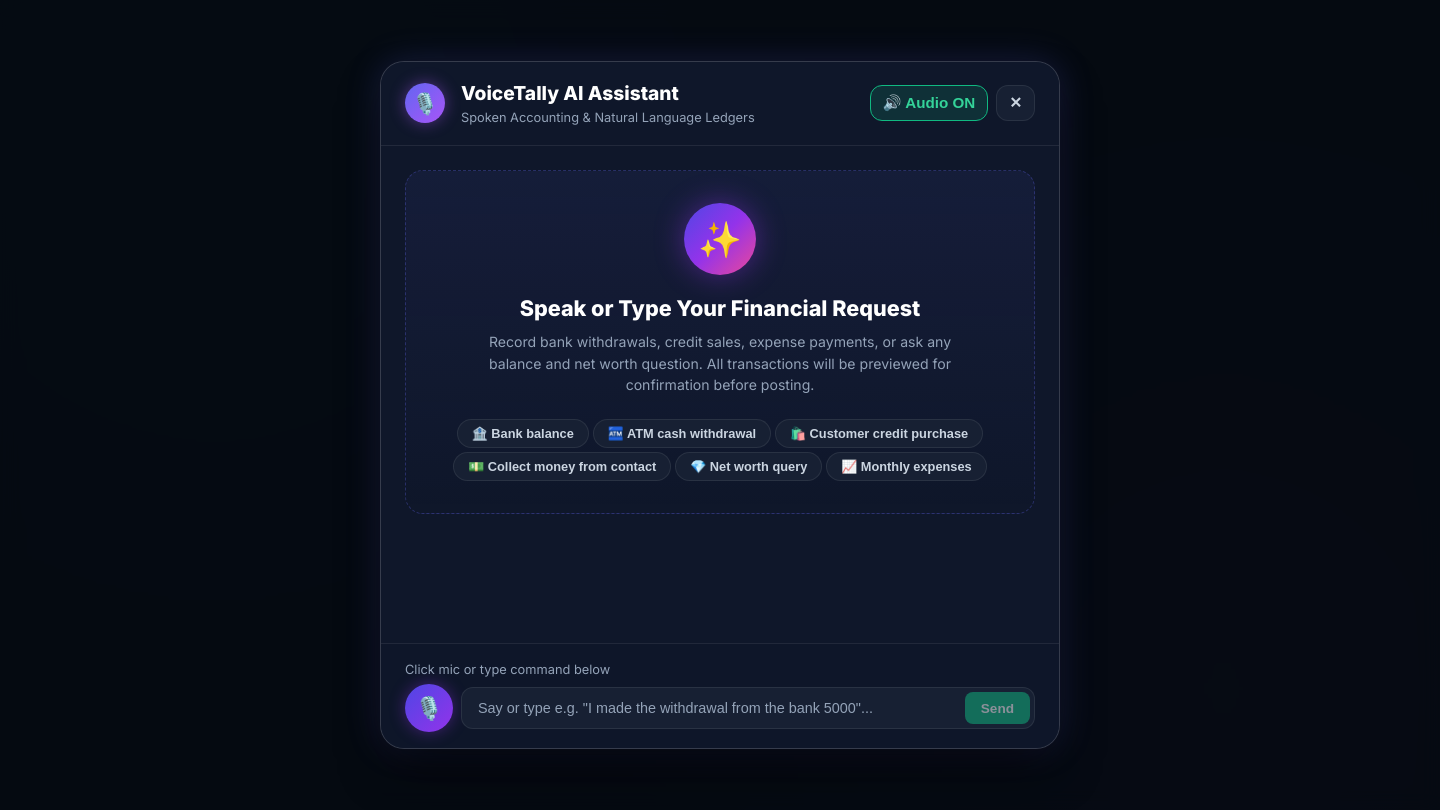
Test: UI: VoiceAgentModal & Studio Components › renders preview card with reconfirmation buttons and confirms on click
The image size is (1440, 810).
Replace the text in the field with placeholder "Say or type" with "i made the withdrawal from the bank 5000" at (713,708), box 466,692 -> 961,724
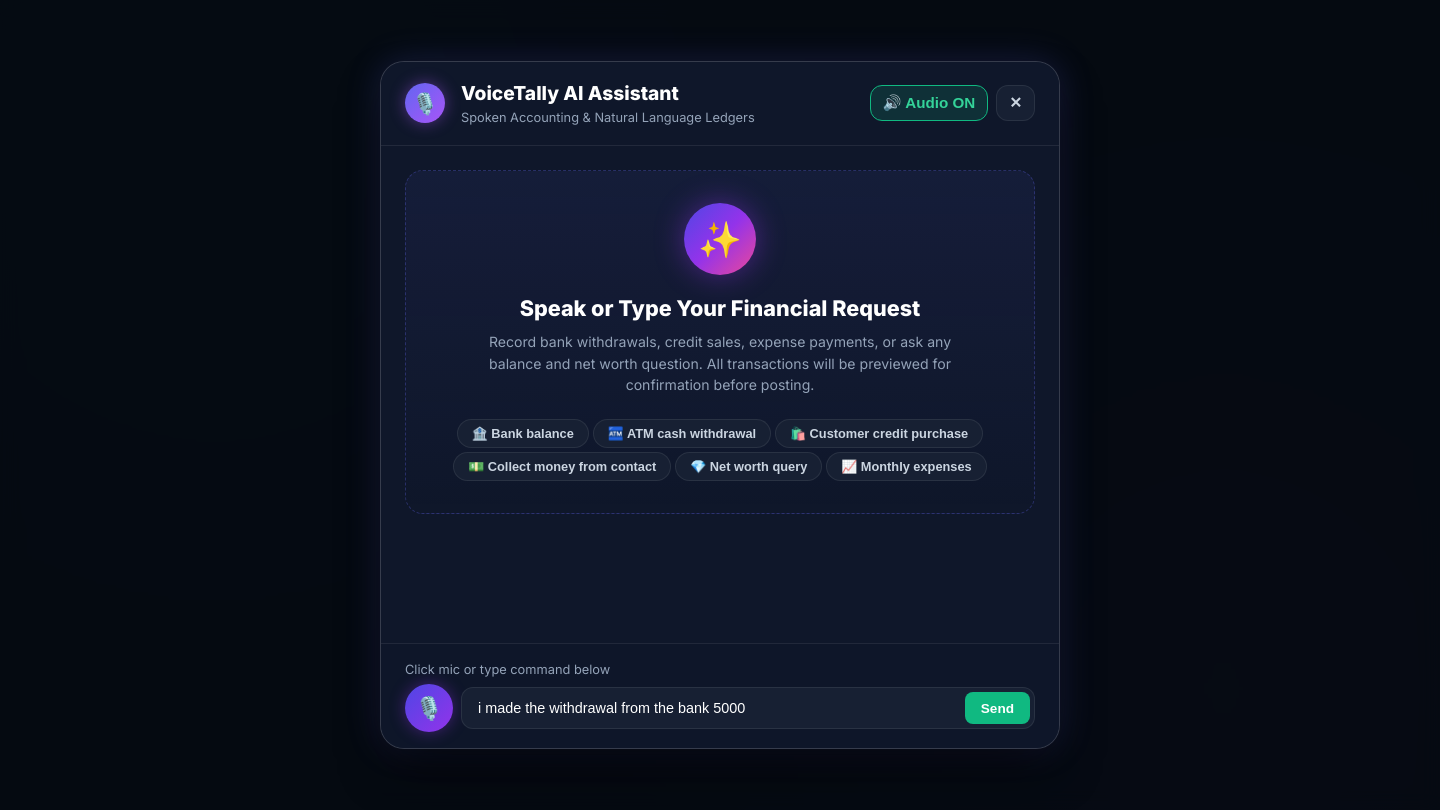
Click the button "Send".
click(997, 708)  # box 965,692 -> 1030,724
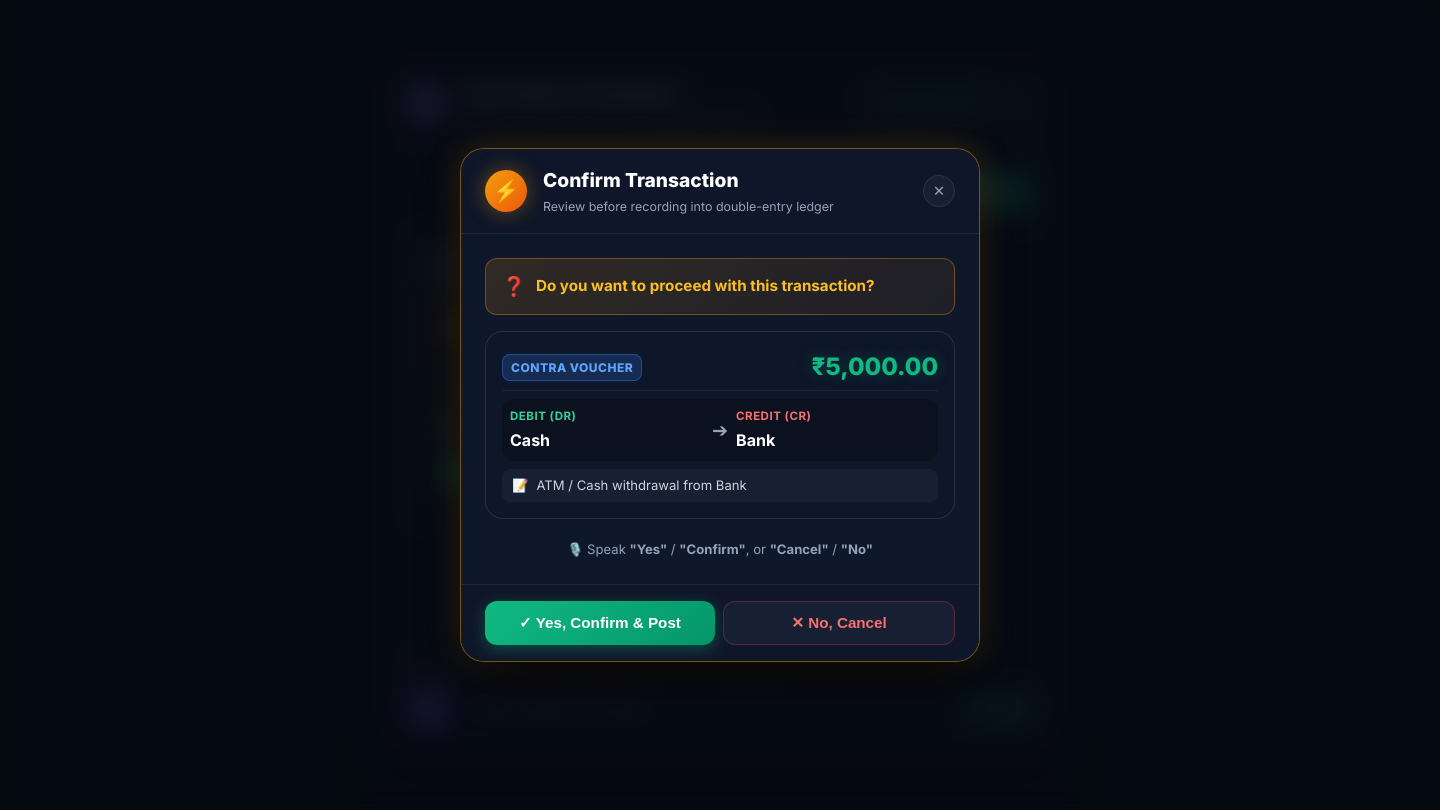
Check: the text "Ready to record 5,000 rupees" is shown, box 422,247 -> 942,287
Check: the text "⚠️ PREVIEW: CONTRA" is shown, box 439,315 -> 598,341
Check: the heading "Confirm Transaction" is shown, box 543,168 -> 739,192
// Click confirm inside the popup
Click the button "✓ Yes, Confirm & Post".
click(600, 623)  # box 485,601 -> 715,645
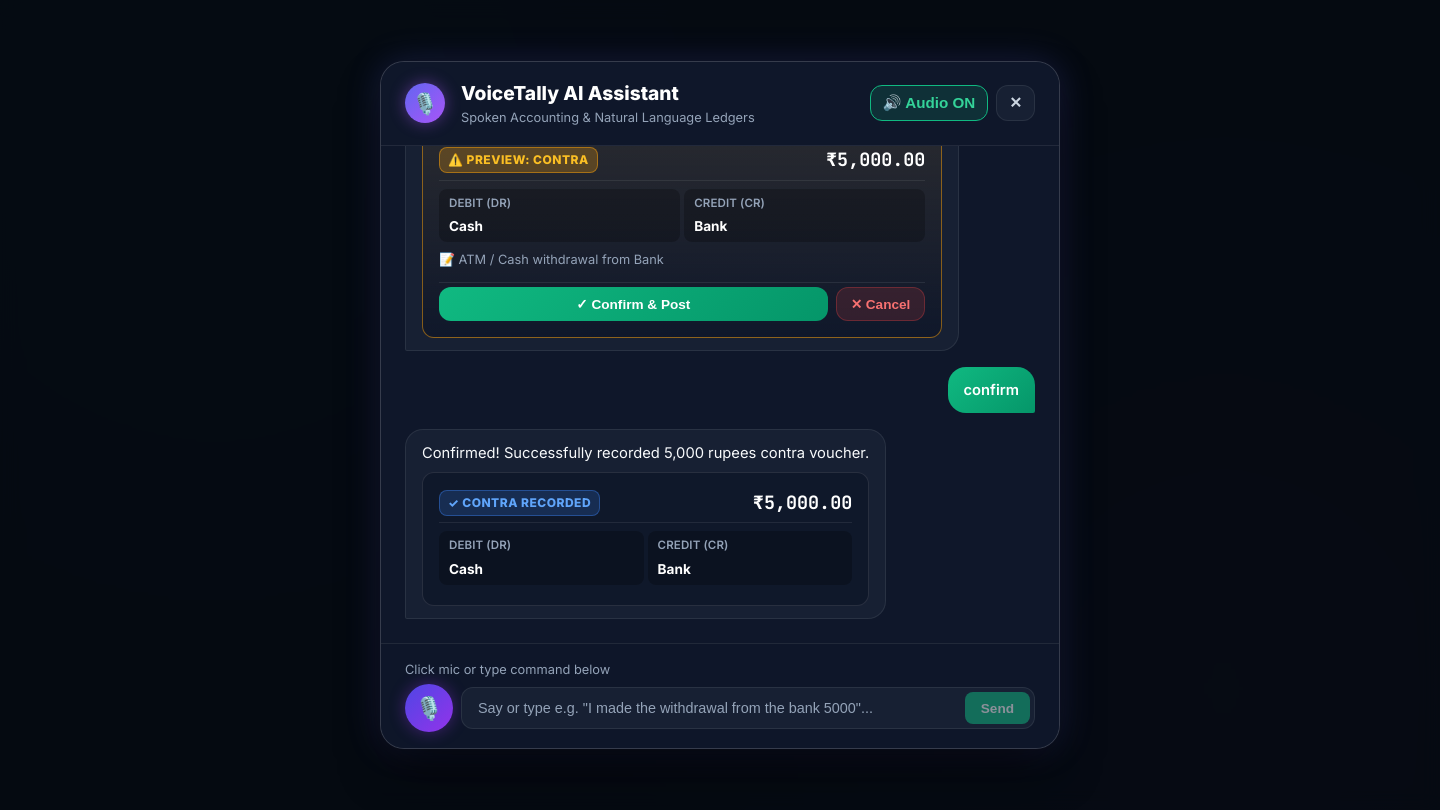
Check: the text "Confirmed! Successfully recorded" is shown, box 422,444 -> 869,462
Check: the text "✓ CONTRA RECORDED" is shown, box 439,490 -> 600,516
